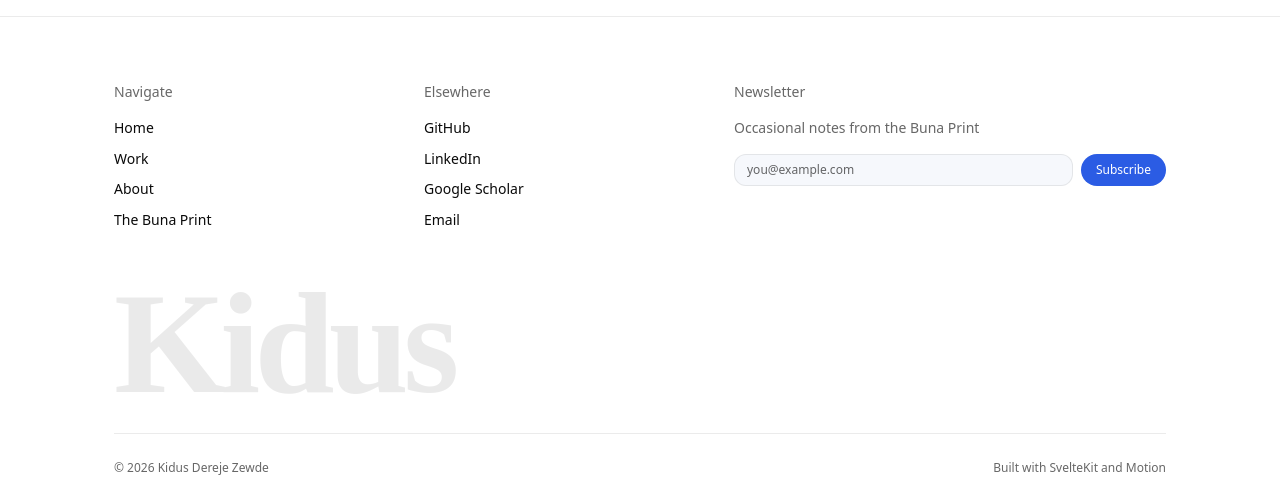
Footer › surfaces the server error inline
The width and height of the screenshot is (1280, 494).
Type "reader@example.com" into the field named "Email address".
click(903, 170); type("reader@example.com")  # box [734,154,1073,186]
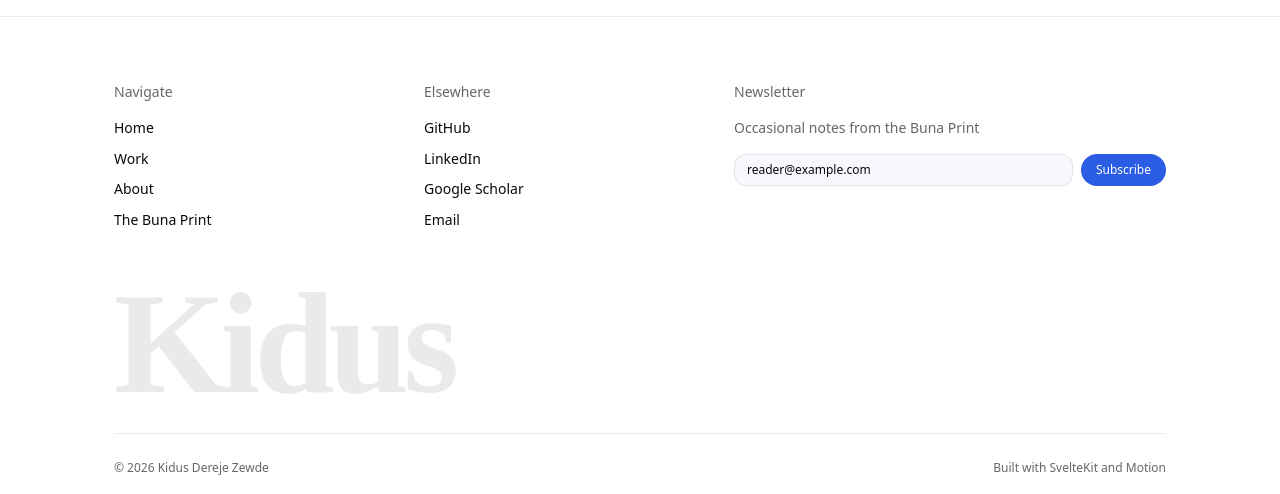
Submit the form, box [734,154,1166,186]
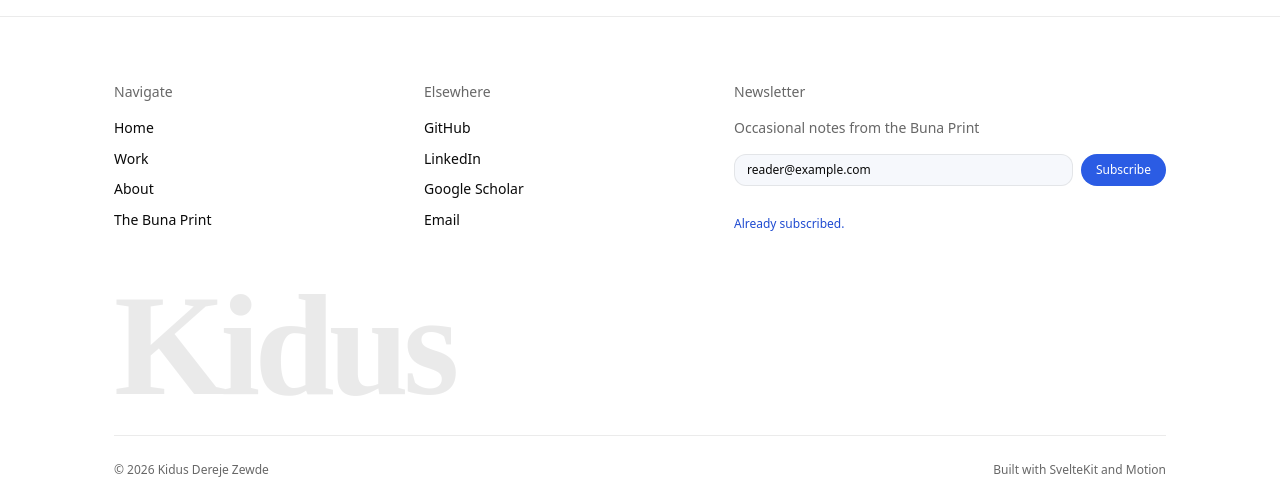
Expected: the text "Already subscribed." is shown, [734,215,844,232]
